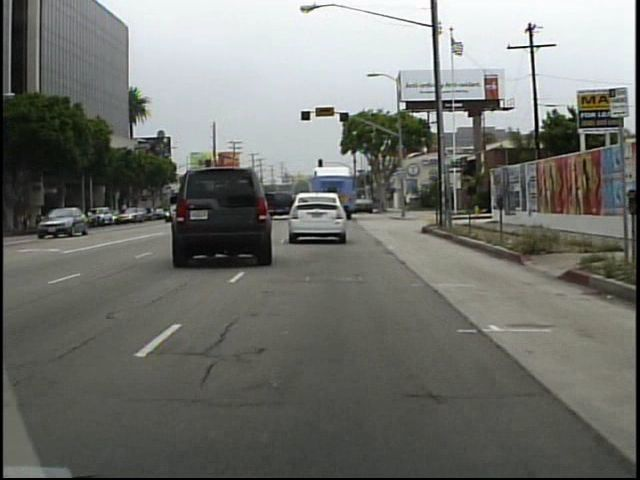person: (405, 188, 415, 213), (398, 189, 407, 214)
